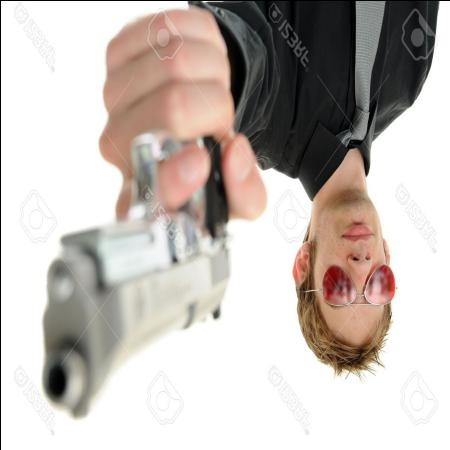Pistol: (34, 12, 226, 412)
